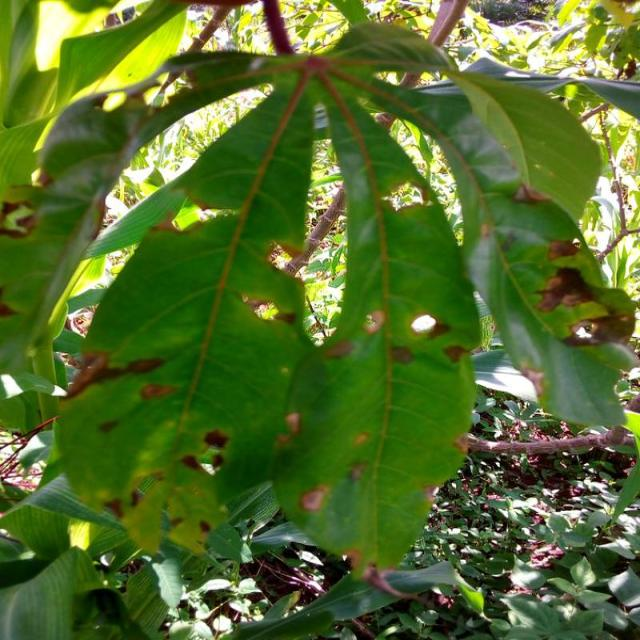cassava leaf: (10, 13, 635, 580)
